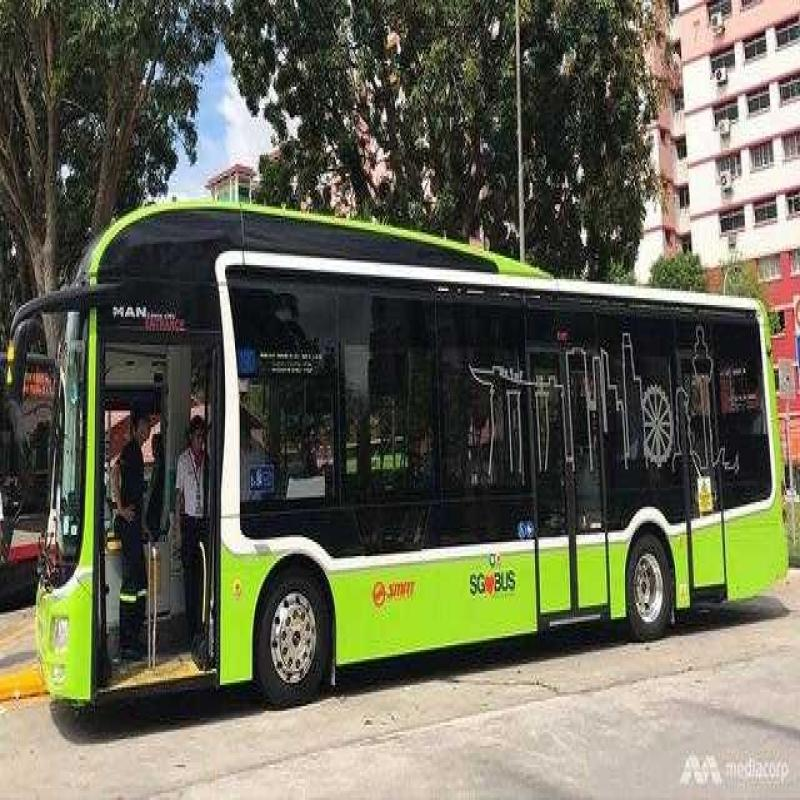bus: (56, 204, 770, 684)
